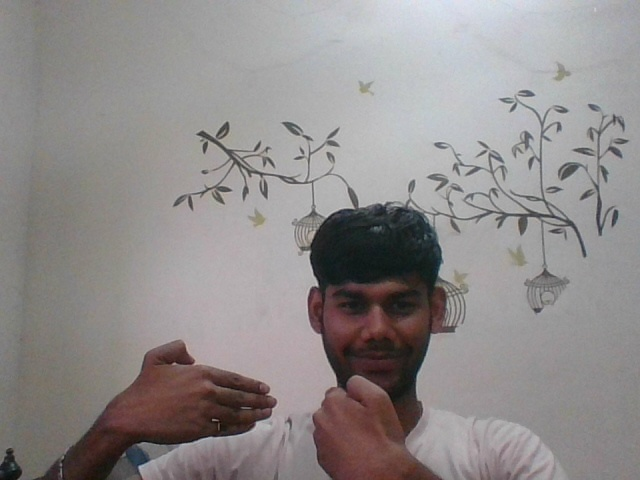I am Utkarsh: (112, 301, 420, 474)
